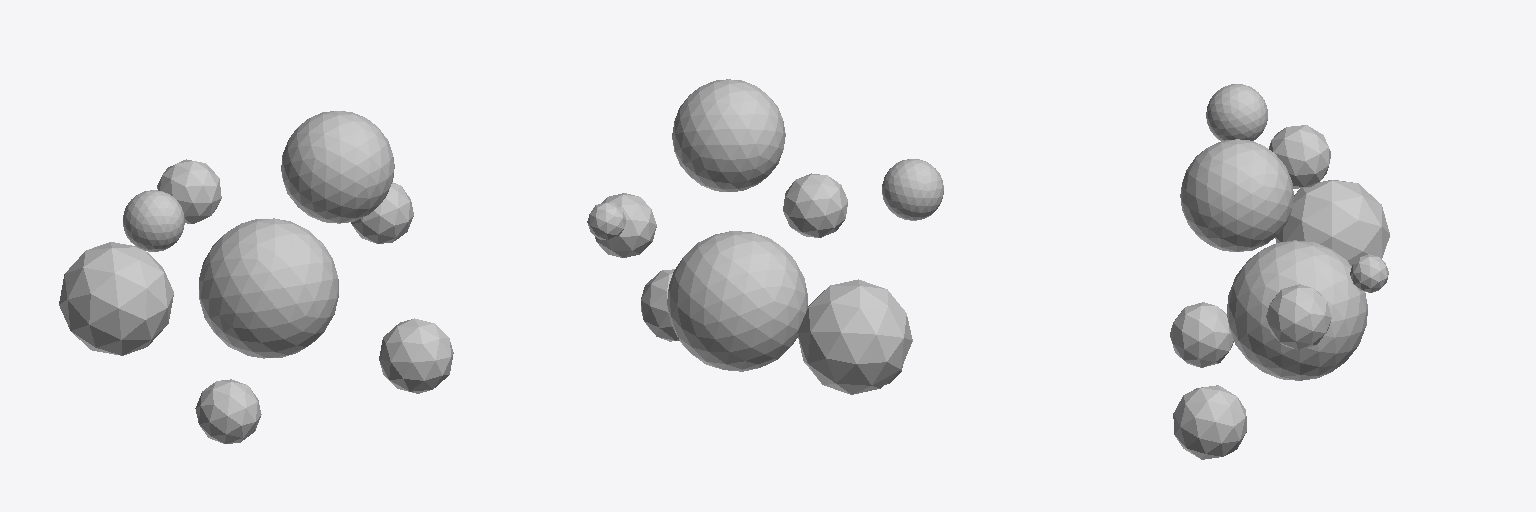
Rendered from spheres.obj.
3 renders of one model, left to right at view 1: azimuth 30°, elevation 25°; view 2: azimuth 150°, elevation 25°; view 3: azimuth 270°, elevation 25°, orthographic.
Parts seen in each view (by area): view 1: Cube.001; view 2: Cube.001; view 3: Cube.001.
Boxes of the visible parts, x1=… form: Cube.001: x1=59, y1=111, x2=453, y2=443; Cube.001: x1=587, y1=79, x2=943, y2=394; Cube.001: x1=1170, y1=84, x2=1389, y2=459.
Size of the model in its own units: 818 by 681 by 482.